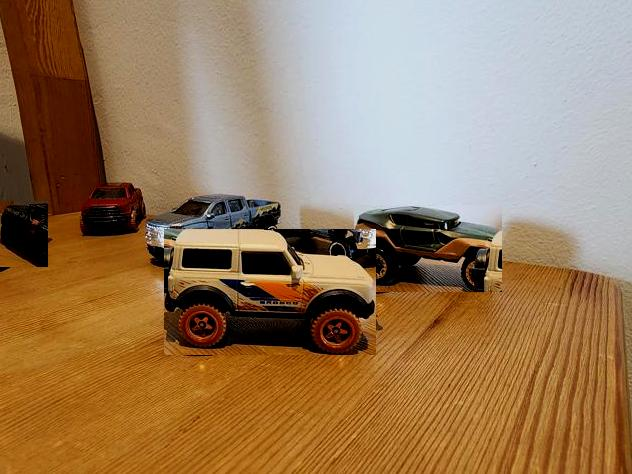toy-car: (164, 230, 376, 356), (354, 205, 502, 292), (145, 194, 281, 265), (80, 182, 145, 237), (0, 201, 48, 267)
